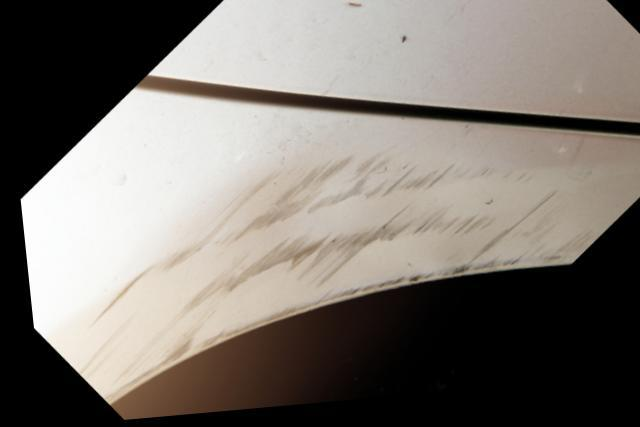scratch: (63, 148, 598, 407)
